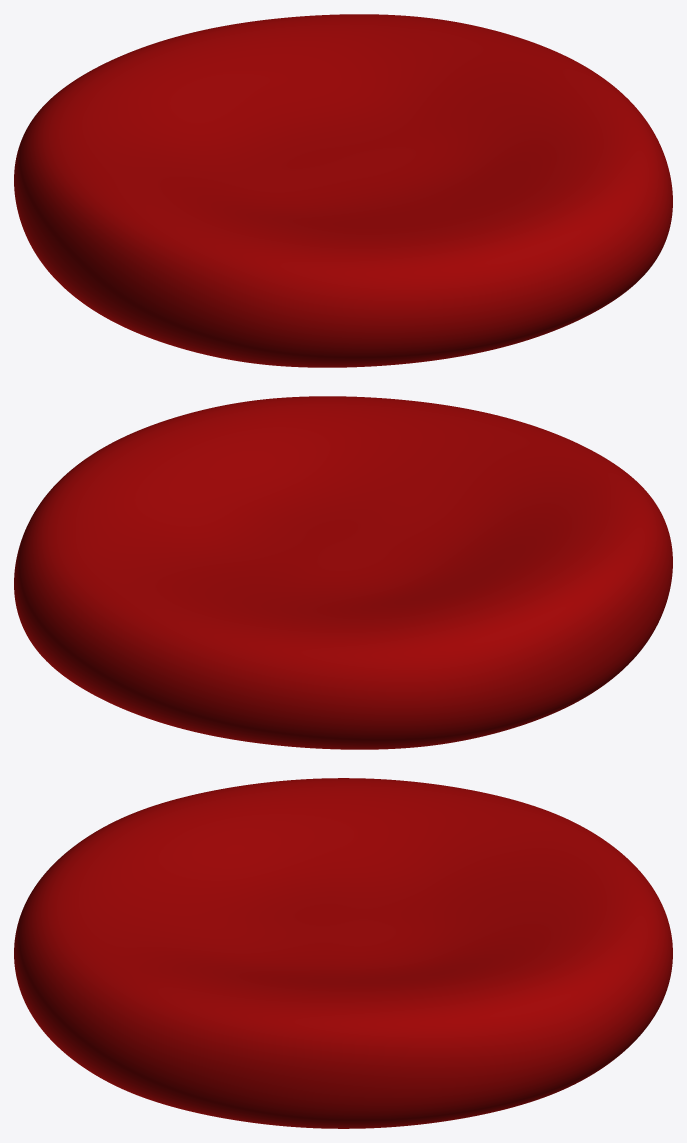
The model's file is bloodcell.fbx.
The picture shows the model from 3 angles, top to bottom: view 1: azimuth 30°, elevation 25°; view 2: azimuth 150°, elevation 25°; view 3: azimuth 270°, elevation 25°; orthographic projection.
Visible parts, largest first — view 1: Cube; view 2: Cube; view 3: Cube.
Part boxes in pixels (box(x1,y1,x2,y2)): Cube: box(14, 14, 672, 367); Cube: box(14, 396, 672, 749); Cube: box(14, 778, 672, 1128).
Size of the model in its own units: 149 by 30.58 by 155.
